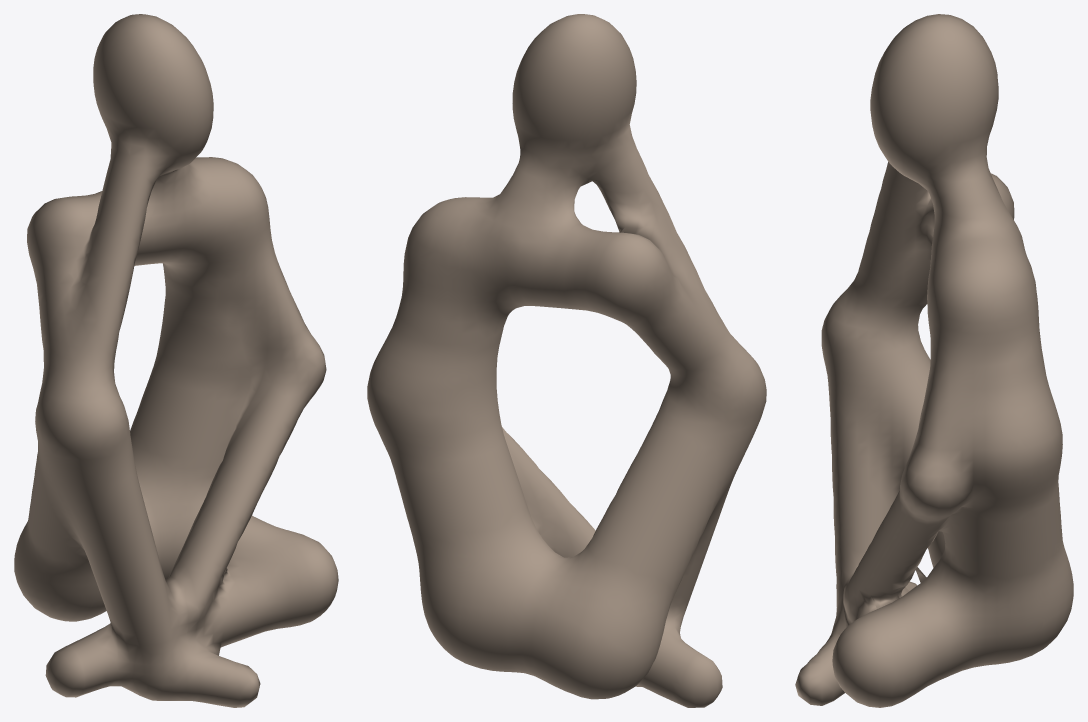
File: sculpture.glb
The picture shows the model from 3 angles, left to right: view 1: azimuth 30°, elevation 25°; view 2: azimuth 150°, elevation 25°; view 3: azimuth 270°, elevation 25°; orthographic projection. The views are drawn at different scales.
Bounding box in the file's own units: 0.6604 × 1.32 × 0.4979.
